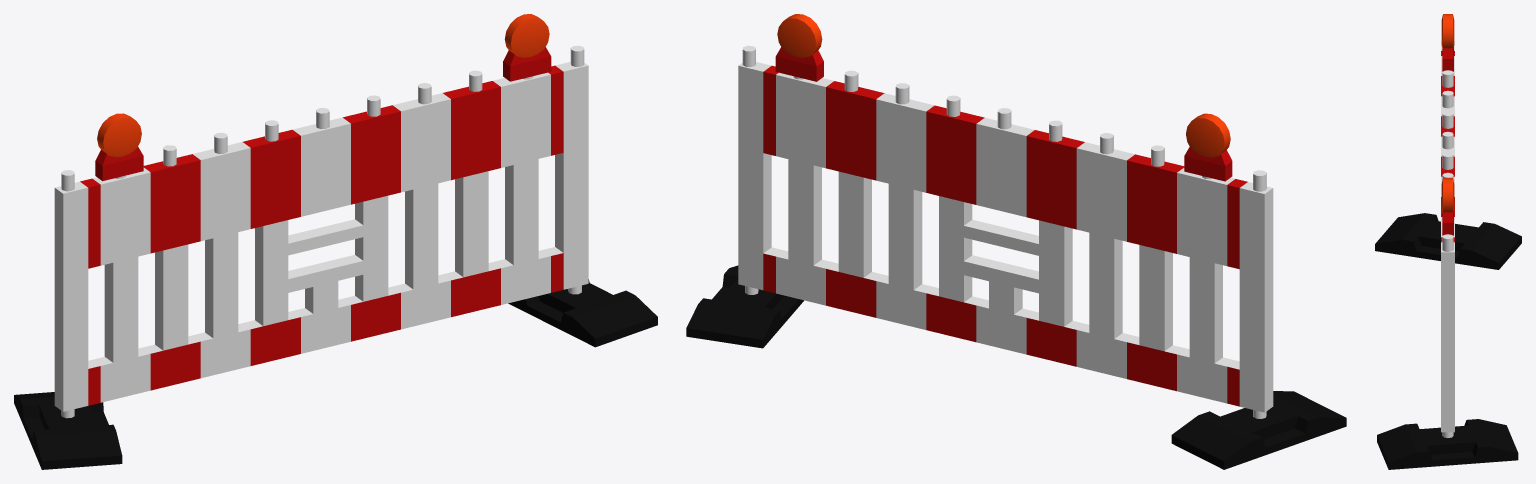
File: ConstructionFence.fbx
The picture shows the model from 3 angles, left to right: view 1: azimuth 30°, elevation 25°; view 2: azimuth 150°, elevation 25°; view 3: azimuth 270°, elevation 25°; orthographic projection. The views are drawn at different scales.
Visible parts, largest first — view 1: ConstructionFence, SignStand01, SignStand02, Light02, Light03; view 2: ConstructionFence, SignStand01, SignStand02, Light02, Light03; view 3: SignStand02, SignStand01, ConstructionFence, Light02, Light03.
Part boxes in pixels (bbox=[...]): ConstructionFence: bbox=[54, 45, 588, 418]; SignStand01: bbox=[14, 392, 122, 469]; SignStand02: bbox=[508, 279, 657, 347]; Light02: bbox=[95, 113, 143, 181]; Light03: bbox=[503, 14, 551, 81]; ConstructionFence: bbox=[738, 45, 1273, 418]; SignStand01: bbox=[1171, 391, 1346, 469]; SignStand02: bbox=[686, 265, 803, 348]; Light02: bbox=[1184, 113, 1232, 181]; Light03: bbox=[775, 14, 823, 81]; SignStand02: bbox=[1377, 419, 1518, 469]; SignStand01: bbox=[1375, 213, 1521, 269]; ConstructionFence: bbox=[1441, 41, 1454, 437]; Light02: bbox=[1441, 14, 1454, 71]; Light03: bbox=[1441, 178, 1454, 235].
Bounding box in the file's own units: 152 × 72.94 × 38.5.
